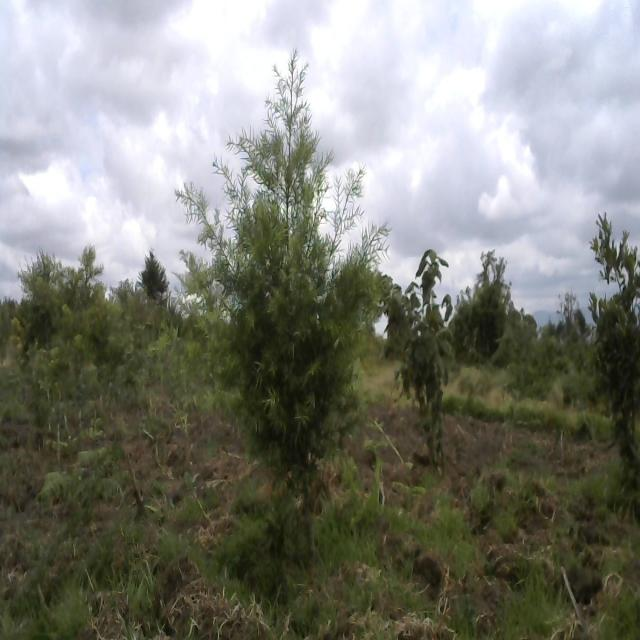Podocarpus falcatus: (170, 50, 388, 622)
cedrus: (133, 243, 169, 306)
other: (577, 202, 640, 484), (396, 242, 463, 498)
